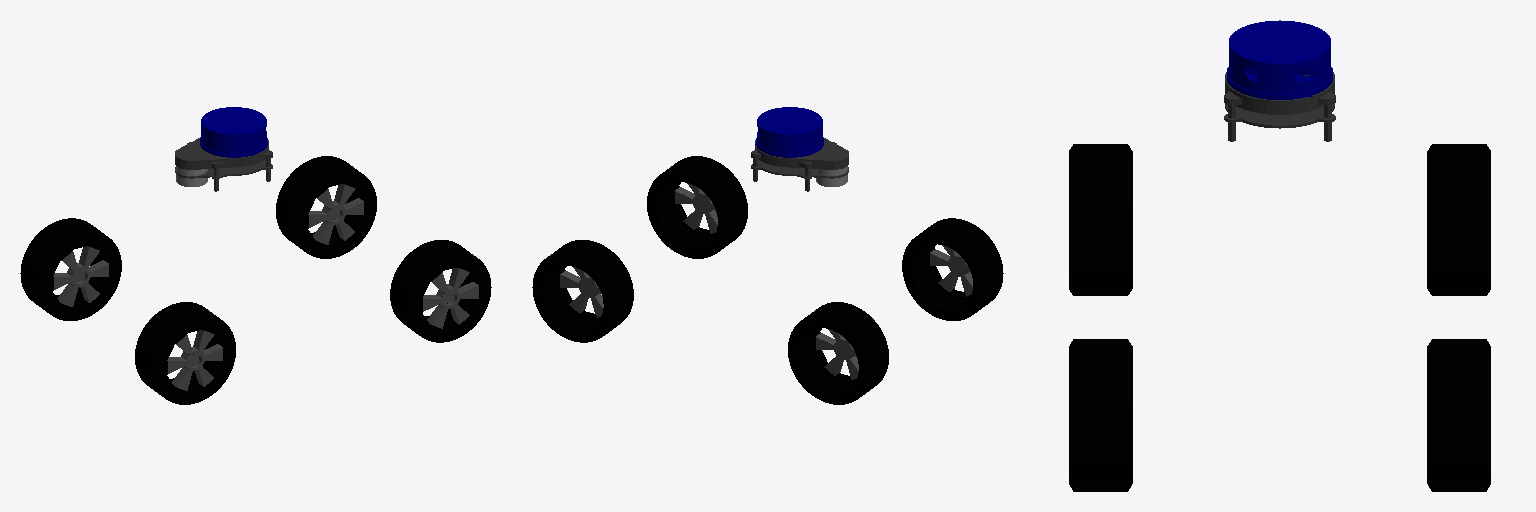
robot.urdf — mushr_nano:
<?xml version="1.0"?>
<robot name="mushr_nano">

  <material name="red">
		<color rgba="1 0 0 1" />
	</material>

	<material name="orange">
		<color rgba="1 0.55 0 1" />
	</material>

	<material name="yellow">
		<color rgba="1 1 0 1" />
	</material>

	<material name="green">
		<color rgba="0 1 0 1" />
	</material>

	<material name="blue">
		<color rgba="0 0 1 1" />
	</material>

	<material name="purple">
		<color rgba="0.6 0.2 0.6 1" />
	</material>

	<material name="white">
		<color rgba="1 1 1 1" />
	</material>

	<material name="black">
		<color rgba="0 0 0 1" />
	</material>

	<material name="gold">
		<color rgba="1 0.84 0 1" />
	</material>

	<material name="teal">
		<color rgba="0 0.8 0.8 1" />
	</material>

	<material name="none">
		<color rgba="0 0 0 1" />
	</material>

<link name="base_footprint">
			<inertial>
				<origin xyz="0 0 0" rpy="0 0 0" />
				<mass value="0.1" />
				<inertia ixx="1" ixy="0" ixz="0" iyy="1" iyz="0" izz="1" />
			</inertial>
		</link>

		<link name="base_link">
			<inertial>
				<origin xyz="0 0 0" rpy="0 0 0" />
				<mass value="1.0" />
				<inertia ixx="1" ixy="0" ixz="0" iyy="1" iyz="0" izz="1" />
			</inertial>
			<visual>
					<origin xyz="0 0 0" rpy="0 0 0" />
					<geometry>
						<mesh filename="package://mushr/meshes/base/nano/mushr_base_nano_core.dae" />
					</geometry>
				</visual>
				<collision>
					<origin xyz="0 0 0" rpy="0 0 0" />
					<geometry>
						<mesh filename="package://mushr/meshes/base/nano/mushr_base_nano_core_collision.dae" />
					</geometry>
				</collision>
			</link>

		<link name="platform_link">
			<inertial>
				<origin xyz="0 0 0" rpy="0 0 0" />
				<mass value="1.0" />
				<inertia ixx="1" ixy="0" ixz="0" iyy="1" iyz="0" izz="1" />
			</inertial>
			<visual>
					<origin xyz="0 0 0" rpy="0 0 0" />
					<geometry>
						<mesh filename="package://mushr/meshes/base/nano/mushr_base_nano_platform.stl" />
					</geometry>
					<material name="none" />
				</visual>
				<collision>
					<origin xyz="0 0 0" rpy="0 0 0" />
					<geometry>
						<mesh filename="package://mushr/meshes/base/nano/mushr_base_nano_platform_collision.dae" />
					</geometry>
				</collision>
			</link>

		<link name="insets_link">
			<inertial>
				<origin xyz="0 0 0" rpy="0 0 0" />
				<mass value="1.0" />
				<inertia ixx="1" ixy="0" ixz="0" iyy="1" iyz="0" izz="1" />
			</inertial>
			<visual>
					<origin xyz="0 0 0" rpy="0 0 0" />
					<geometry>
						<mesh filename="package://mushr/meshes/base/nano/mushr_base_nano_insets.stl" />
					</geometry>
					<material name="none" />
				</visual>
				<collision>
					<origin xyz="0 0 0" rpy="0 0 0" />
					<geometry>
						<mesh filename="package://mushr/meshes/base/nano/mushr_base_nano_insets_collision.dae" />
					</geometry>
				</collision>
			</link>

		<joint name="base_footprint_to_base_link" type="fixed">
			<origin xyz="0 0 0.094655" rpy="0 0 0" />
			<parent link="base_footprint" />
			<child link="base_link" />
		</joint>

		<joint name="base_link_to_platform_link" type="fixed">
			<origin xyz="0 0 0.0" rpy="0 0 0" />
			<parent link="base_link" />
			<child link="platform_link" />
		</joint>

		<joint name="base_link_to_insets_link" type="fixed">
			<origin xyz="0 0 0.0" rpy="0 0 0" />
			<parent link="base_link" />
			<child link="insets_link" />
		</joint>

	<link name="front_left/wheel_link">
                        <inertial>
				<origin xyz="0 0 0" rpy="0 0 0" />
				<mass value="1.0" />
                                <inertia ixx="1" ixy="0" ixz="0" iyy="1" iyz="0" izz="1" />
                        </inertial>

                        <visual>

				<origin xyz="0 0 0" rpy="0 0 0" />
				<geometry>
                                        <mesh filename="package://mushr/meshes/base/mushr_wheel.dae" />
                                </geometry>
                        </visual>
                        <collision>
				<origin xyz="0 0 0" rpy="0 0 3.141592" />
				<geometry>
                                        <mesh filename="package://mushr/meshes/base/mushr_wheel_collision.dae" />
                                </geometry>
                        </collision>
                </link>
        <link name="front_right/wheel_link">
                        <inertial>
				<origin xyz="0 0 0" rpy="0 0 0" />
				<mass value="1.0" />
                                <inertia ixx="1" ixy="0" ixz="0" iyy="1" iyz="0" izz="1" />
                        </inertial>

                        <visual>

				<origin xyz="0 0 0" rpy="0 0 0" />
				<geometry>
                                        <mesh filename="package://mushr/meshes/base/mushr_wheel.dae" />
                                </geometry>
                        </visual>
                        <collision>
				<origin xyz="0 0 0" rpy="0 0 3.141592" />
				<geometry>
                                        <mesh filename="package://mushr/meshes/base/mushr_wheel_collision.dae" />
                                </geometry>
                        </collision>
                </link>
        <link name="back_left/wheel_link">
                        <inertial>
				<origin xyz="0 0 0" rpy="0 0 0" />
				<mass value="1.0" />
                                <inertia ixx="1" ixy="0" ixz="0" iyy="1" iyz="0" izz="1" />
                        </inertial>

                        <visual>

				<origin xyz="0 0 0" rpy="0 0 0" />
				<geometry>
                                        <mesh filename="package://mushr/meshes/base/mushr_wheel.dae" />
                                </geometry>
                        </visual>
                        <collision>
				<origin xyz="0 0 0" rpy="0 0 3.141592" />
				<geometry>
                                        <mesh filename="package://mushr/meshes/base/mushr_wheel_collision.dae" />
                                </geometry>
                        </collision>
                </link>
        <link name="back_right/wheel_link">
                        <inertial>
				<origin xyz="0 0 0" rpy="0 0 0" />
				<mass value="1.0" />
                                <inertia ixx="1" ixy="0" ixz="0" iyy="1" iyz="0" izz="1" />
                        </inertial>

                        <visual>

				<origin xyz="0 0 0" rpy="0 0 0" />
				<geometry>
                                        <mesh filename="package://mushr/meshes/base/mushr_wheel.dae" />
                                </geometry>
                        </visual>
                        <collision>
				<origin xyz="0 0 0" rpy="0 0 3.141592" />
				<geometry>
                                        <mesh filename="package://mushr/meshes/base/mushr_wheel_collision.dae" />
                                </geometry>
                        </collision>
                </link>
        <link name="laser_link">
                        <inertial>
                                <origin xyz="0 0 0" rpy="0 0 0" />
                                <mass value="1.0" />
                                <inertia ixx="1" ixy="0" ixz="0" iyy="1" iyz="0" izz="1" />
                        </inertial>

                        <visual>
                                <origin xyz="0 0 0" rpy="0 0 0" />
                                <geometry>
                                        <mesh filename="package://mushr/meshes/sensors/mushr_ydlidar.dae" />
                                </geometry>
                        </visual>
                        <collision>
                                <origin xyz="0 0 0" rpy="0 0 0" />
                                <geometry>
                                        <mesh filename="package://mushr/meshes/sensors/mushr_ydlidar_collision.dae" />
                                </geometry>
                        </collision>
                </link>
        <link name="front_left/wheel_steer_link">
    <inertial>
      <origin xyz="0 0 0" rpy="0 0 0" />

      <mass value="0.001" />
      <inertia ixx="1" ixy="0" ixz="0" iyy="1" iyz="0" izz="1" />
    </inertial>
  </link>

  <link name="front_right/wheel_steer_link">
    <inertial>
      <origin xyz="0 0 0" rpy="0 0 0" />

      <mass value="0.001" />
      <inertia ixx="1" ixy="0" ixz="0" iyy="1" iyz="0" izz="1" />
    </inertial>
  </link>

  <joint name="front_left_wheel_steer" type="revolute">
		<axis xyz="0 0 1" />
		<limit effort="1000.0" lower="-1.57" upper="1.57" velocity="10.0" />
    <origin xyz="0.1385 0.115 -0.045855" rpy="0 0 0" />
    <parent link="base_link" />
    <child link="front_left/wheel_steer_link" />
	</joint>


	<joint name="front_right_wheel_steer" type="revolute">
		<axis xyz="0 0 1" />
		<limit effort="1000.0" lower="-1.57" upper="1.57" velocity="10.0" />
    <origin xyz="0.1385 -0.115 -0.045855" rpy="0 0 0" />
    <parent link="base_link" />
    <child link="front_right/wheel_steer_link" />
	</joint>

  <joint name="front_left_wheel_throttle" type="continuous">
		<axis xyz="0 1 0" />
    <origin xyz="0 0 0" rpy="0 0 0" />
    <parent link="front_left/wheel_steer_link" />
    <child link="front_left/wheel_link" />
	</joint>


  <joint name="front_right_wheel_throttle" type="continuous">
		<axis xyz="0 1 0" />
    <origin xyz="0 0 0" rpy="0 0 0" />
    <parent link="front_right/wheel_steer_link" />
    <child link="front_right/wheel_link" />
	</joint>

  <joint name="back_left_wheel_throttle" type="continuous">
		<axis xyz="0 1 0" />
    <origin xyz="-0.158 0.115 -0.045855" rpy="0 0 0" />
    <parent link="base_link" />
    <child link="back_left/wheel_link" />
	</joint>

  <joint name="back_right_wheel_throttle" type="continuous">
		<axis xyz="0 1 0" />
    <origin xyz="-0.158 -0.115 -0.045855" rpy="0 0 0" />
    <parent link="base_link" />
    <child link="back_right/wheel_link" />
	</joint>

	<joint name="base_link_to_laser_link" type="fixed">
		<origin xyz="-0.035325 0 0.10775" rpy="0 0 0" />
		<parent link="base_link" />
		<child link="laser_link" />
	</joint>
</robot>

--- Render facts (derived) ---
3 views of the same robot in one strip: view 1: azimuth 30°, elevation 25°; view 2: azimuth 150°, elevation 25°; view 3: azimuth 270°, elevation 25° (orthographic).
Robot: mushr_nano — 11 links, 10 joints (2 revolute, 4 continuous, 4 fixed); root link base_footprint; default pose: all joints at 0.
Visible links, largest first — view 1: back_right/wheel_link, front_left/wheel_link, back_left/wheel_link, front_right/wheel_link, laser_link; view 2: back_left/wheel_link, front_right/wheel_link, back_right/wheel_link, front_left/wheel_link, laser_link; view 3: laser_link, front_left/wheel_link, front_right/wheel_link, back_left/wheel_link, back_right/wheel_link.
Boxes of the visible links, x1,y1,x2,y2 form: back_right/wheel_link: [135, 302, 235, 404]; front_left/wheel_link: [276, 156, 376, 258]; back_left/wheel_link: [20, 218, 121, 320]; front_right/wheel_link: [390, 240, 491, 342]; laser_link: [175, 107, 272, 191]; back_left/wheel_link: [788, 302, 888, 404]; front_right/wheel_link: [647, 156, 747, 258]; back_right/wheel_link: [902, 218, 1003, 320]; front_left/wheel_link: [532, 240, 633, 342]; laser_link: [751, 107, 848, 191]; laser_link: [1224, 20, 1335, 141]; front_left/wheel_link: [1427, 339, 1490, 491]; front_right/wheel_link: [1069, 339, 1132, 491]; back_left/wheel_link: [1427, 144, 1490, 295]; back_right/wheel_link: [1069, 144, 1132, 295].
Size in the robot's own frame: 0.3941 by 0.271 by 0.2319 metres.
Meshes: 5 distinct files referenced, 5 mesh visuals loaded (2 Collada DAE); not drawn: 3 (reference not matched to a file when rendering).
